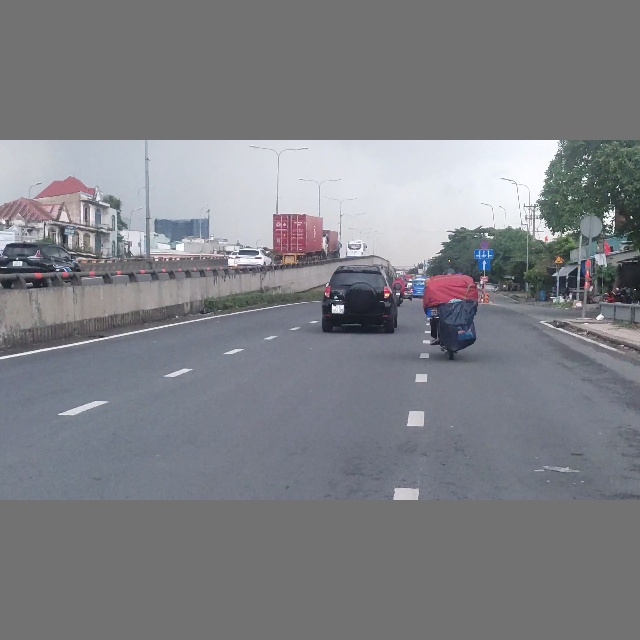I.407a: (478, 259, 491, 270)
P.130: (481, 241, 489, 249)
